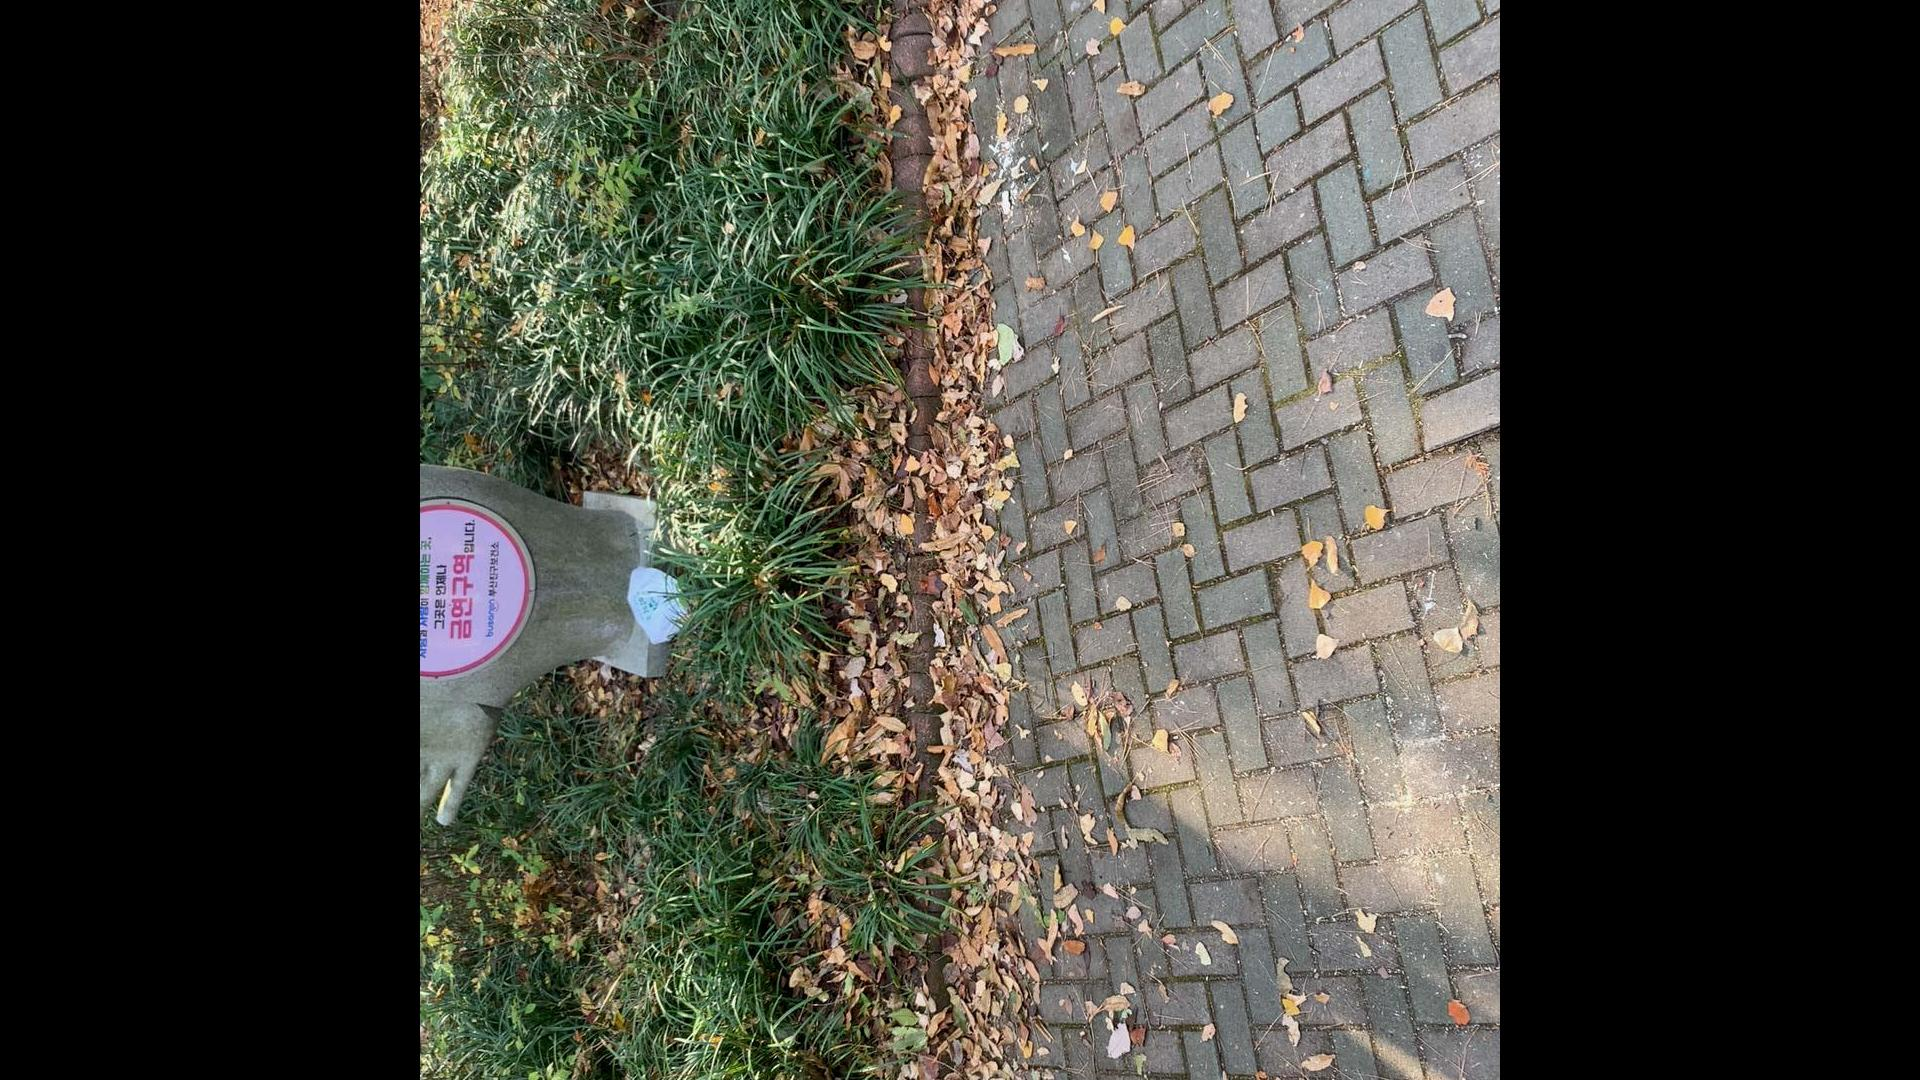white_bag: (622, 564, 696, 649)
